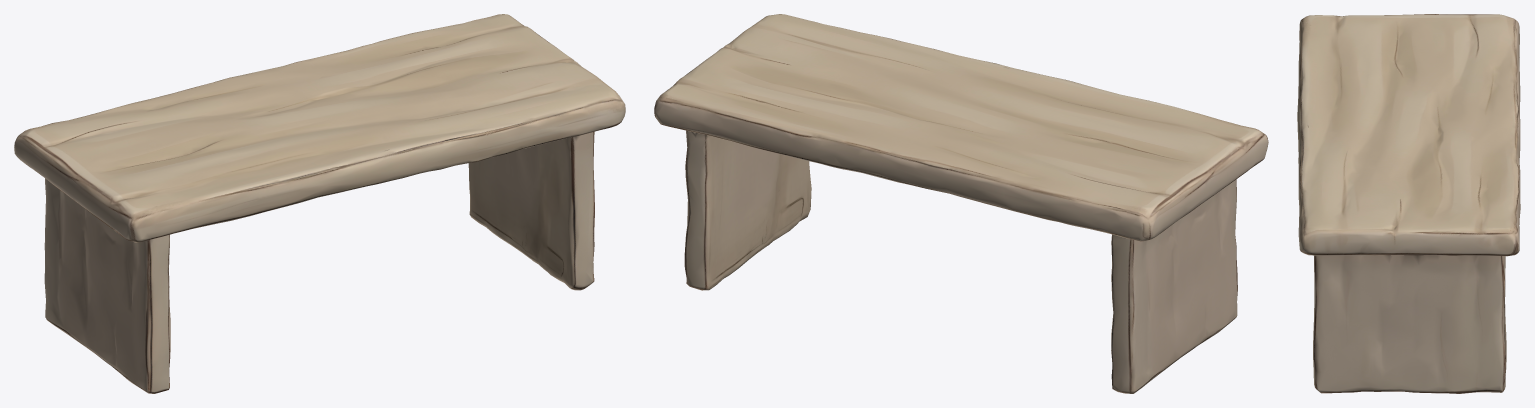
File: raw_bench.glb
The picture shows the model from 3 angles, left to right: view 1: azimuth 30°, elevation 25°; view 2: azimuth 150°, elevation 25°; view 3: azimuth 270°, elevation 25°; orthographic projection. The views are drawn at different scales.
Parts seen in each view (by area): view 1: tripo_node_fc5604d2-1411-45b6-9938-5c36e5994a4b; view 2: tripo_node_fc5604d2-1411-45b6-9938-5c36e5994a4b; view 3: tripo_node_fc5604d2-1411-45b6-9938-5c36e5994a4b.
Part boxes in pixels (box(x1,y1,x2,y2)): tripo_node_fc5604d2-1411-45b6-9938-5c36e5994a4b: box(14, 14, 625, 393); tripo_node_fc5604d2-1411-45b6-9938-5c36e5994a4b: box(654, 14, 1268, 393); tripo_node_fc5604d2-1411-45b6-9938-5c36e5994a4b: box(1297, 14, 1520, 393).
Bounding box in the file's own units: 1 × 0.3719 × 0.4274.
1 material, 1 textured.
